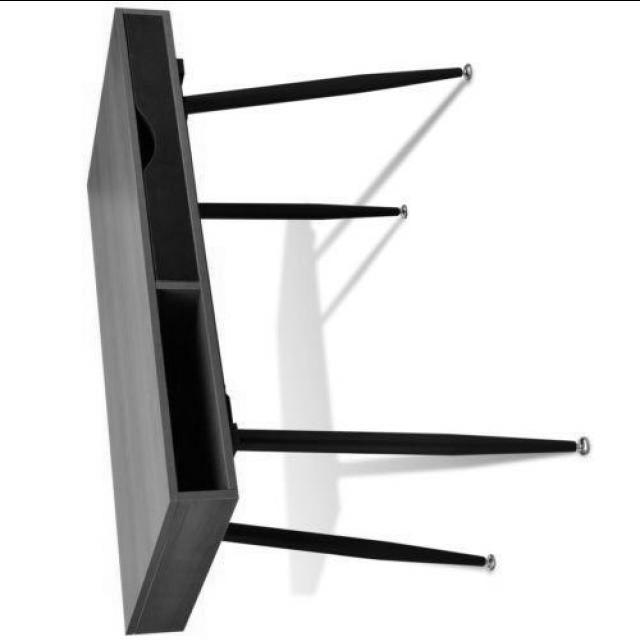table: (85, 6, 591, 632)
